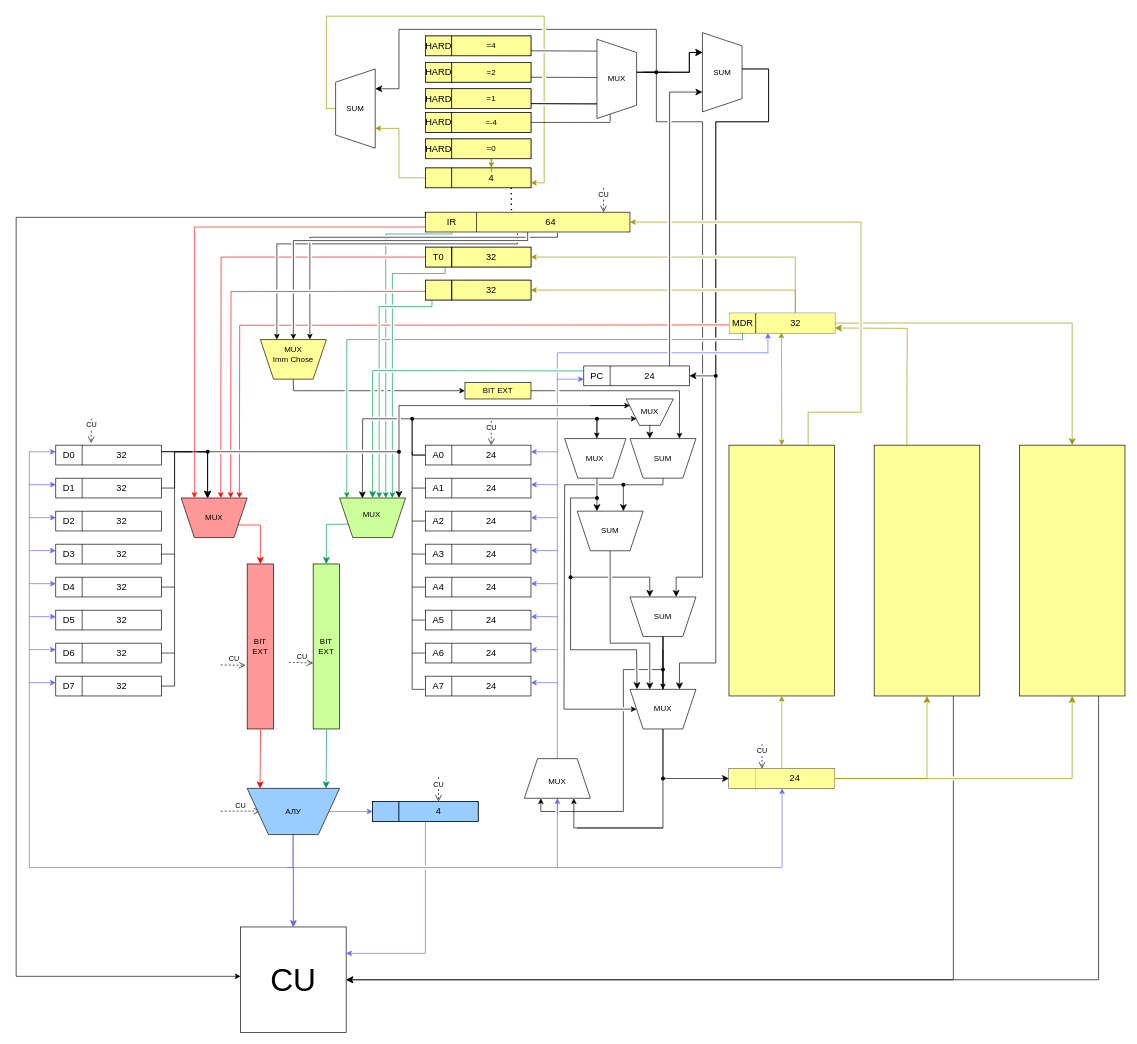
Image size: 1137x1044. Some labels were removed from this diagram. Here are the shapes that lost their labels. From the top down, the centre of each, then its label:
At point 438,177: "IRPC".
At point 438,290: "T1".
At point 781,570: "MEM 32".
At point 927,570: "Input".
At point 1072,570: "Output".
At point 742,778: "AR".
At point 385,811: "SR".
